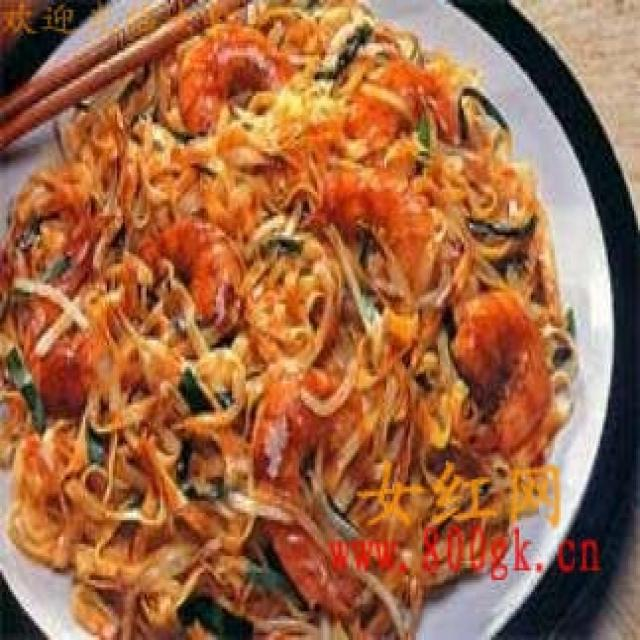面条主食: (16, 19, 561, 623)
